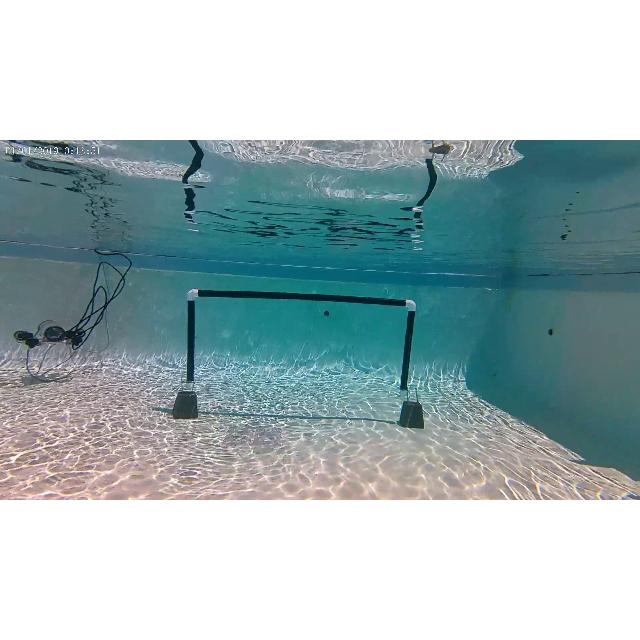prequal gate: (182, 288, 418, 398)
prequal gate leg l: (177, 289, 203, 415)
prequal gate leg r: (399, 298, 427, 426)
